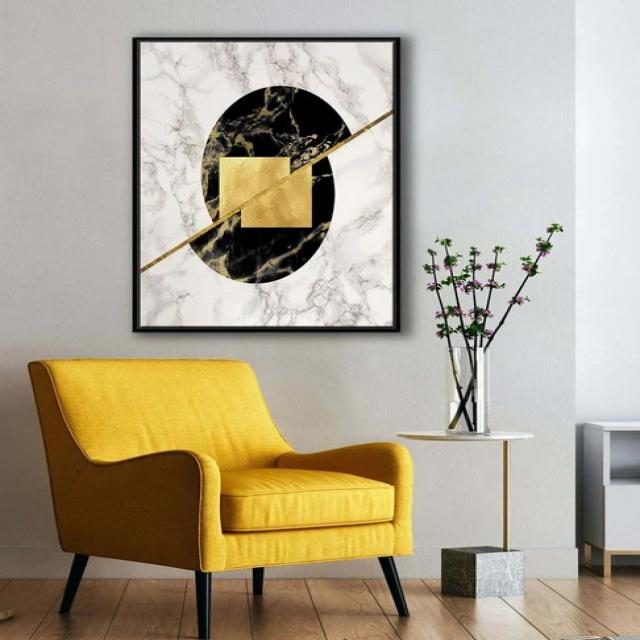painting: (133, 38, 401, 331)
